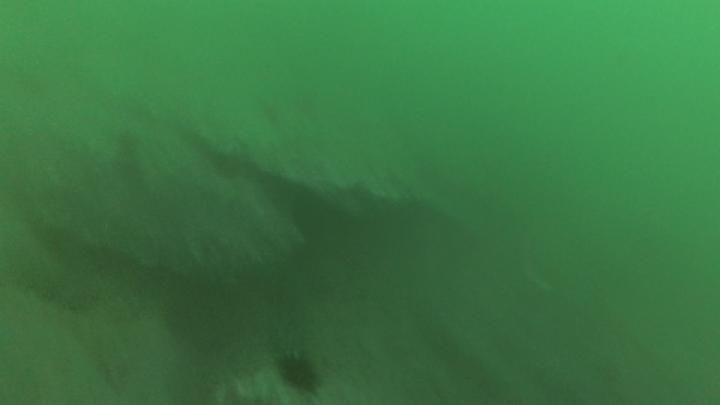echinus: (274, 358, 320, 394)
